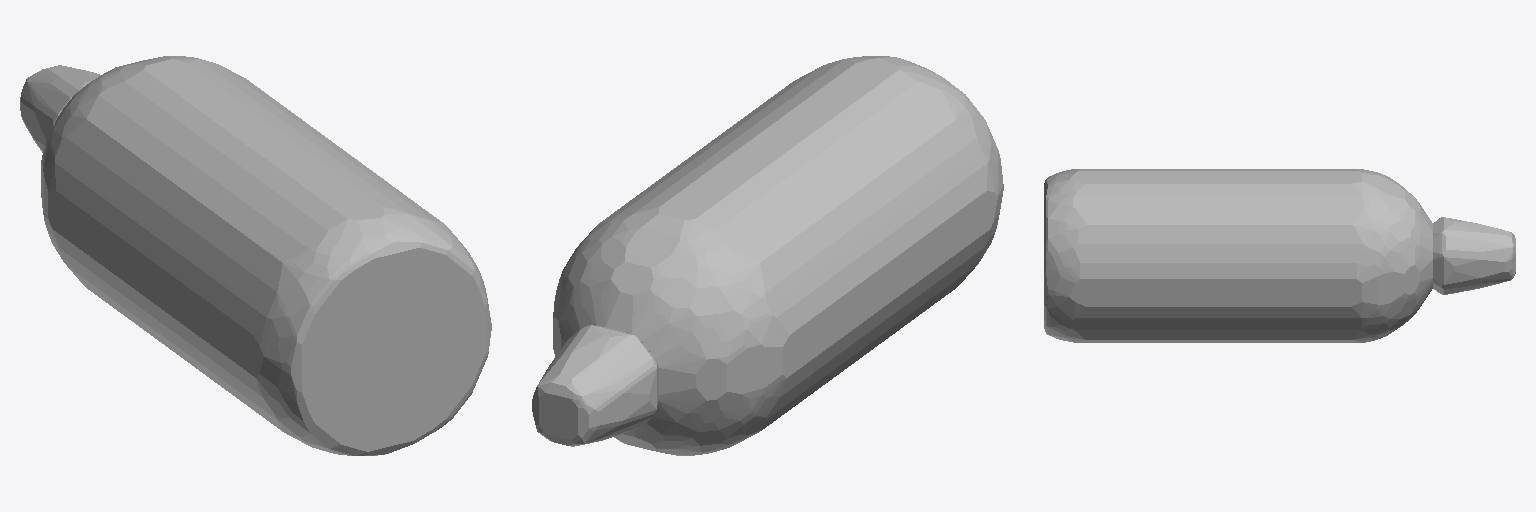
URDF robot description (root):
<?xml version="1.0"?>
<robot name="root">
  <link name="base_link">
    <visual>
      <origin xyz="0 0 0" rpy="0 0 0" />
      <geometry>
        <mesh filename="../meshes/unidex_core_bottle-a118d15a0c74091e3ba6f328e4cd62be_008.obj" scale="1.0000E+00 1.0000E+00 1.0000E+00" />
      </geometry>
      <material name="">
        <color rgba="7.50E-01 7.50E-01 7.50E-01 1" />
      </material>
    </visual>
    <collision>
      <origin xyz="0 0 0" rpy="0 0 0" />
      <geometry>
        <mesh filename="../meshes/unidex_core_bottle-a118d15a0c74091e3ba6f328e4cd62be_008.obj" scale="1.0000E+00 1.0000E+00 1.0000E+00" />
      </geometry>
    </collision>
  </link>
</robot>

--- Facts derived from the render (not from the file) ---
Views: 3 orthographic renders of the robot side by side, from view 1: azimuth 30°, elevation 25°; view 2: azimuth 150°, elevation 25°; view 3: azimuth 270°, elevation 25°.
Robot: root — 1 links, 0 joints (none); root link base_link; default pose: every joint at zero.
Visible links, largest first — view 1: base_link; view 2: base_link; view 3: base_link.
Boxes of the visible links, <box> form: base_link: <box>20,56,491,455</box>; base_link: <box>532,56,1003,455</box>; base_link: <box>1044,169,1515,342</box>.
Bounding box of the posed robot: 0.0553 × 0.1496 × 0.0553 m (x, y, z).
Meshes: 1 distinct files referenced, 1 mesh visuals loaded (1 OBJ).
